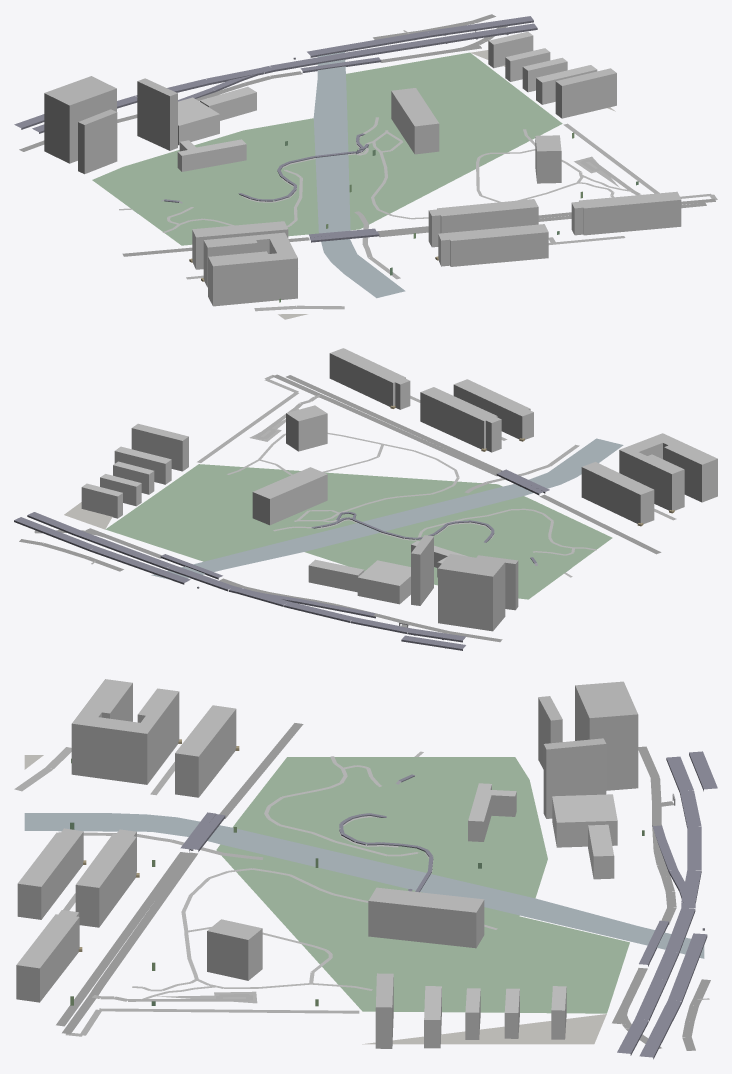
3 renders of one model, top to bottom at view 1: azimuth 30°, elevation 25°; view 2: azimuth 150°, elevation 25°; view 3: azimuth 270°, elevation 25°, orthographic. The views are drawn at different scales.
Size of the model in its own units: 591 by 62.19 by 518.
